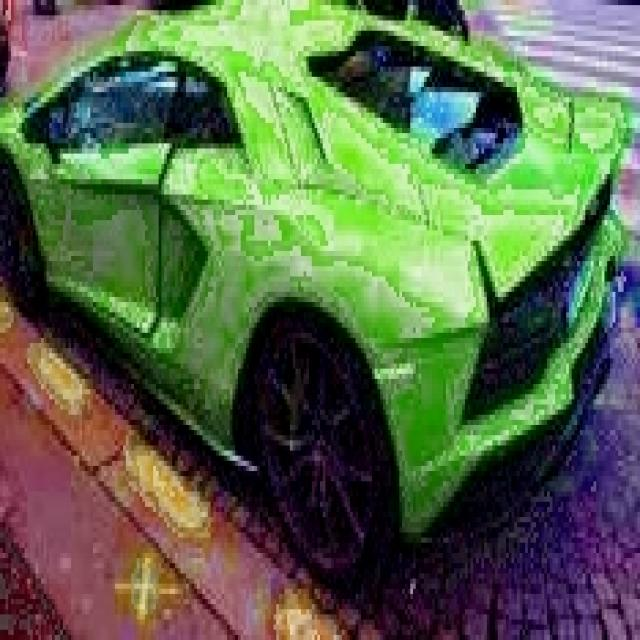green: (0, 5, 624, 584)
